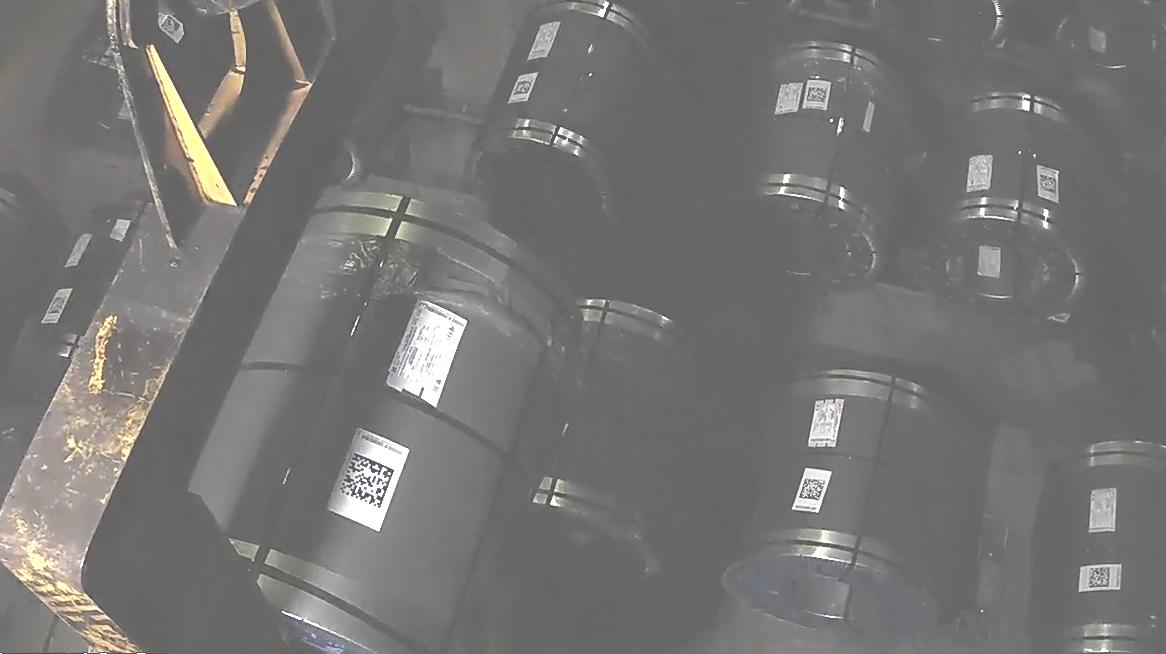data matrix: (334, 451, 398, 512), (798, 478, 828, 502), (1088, 566, 1113, 592), (806, 85, 830, 107), (1039, 173, 1059, 197), (512, 79, 535, 97)
